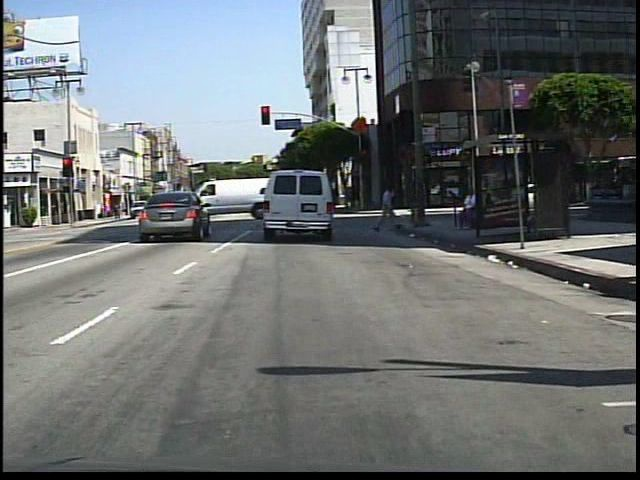person: (375, 180, 401, 235), (457, 187, 480, 234), (143, 192, 158, 218)
